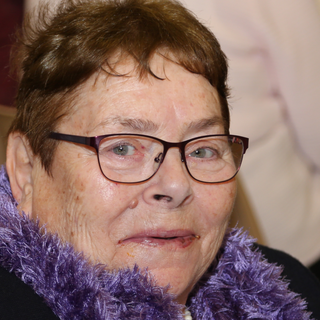eye: (100, 138, 147, 164), (182, 141, 225, 166)
